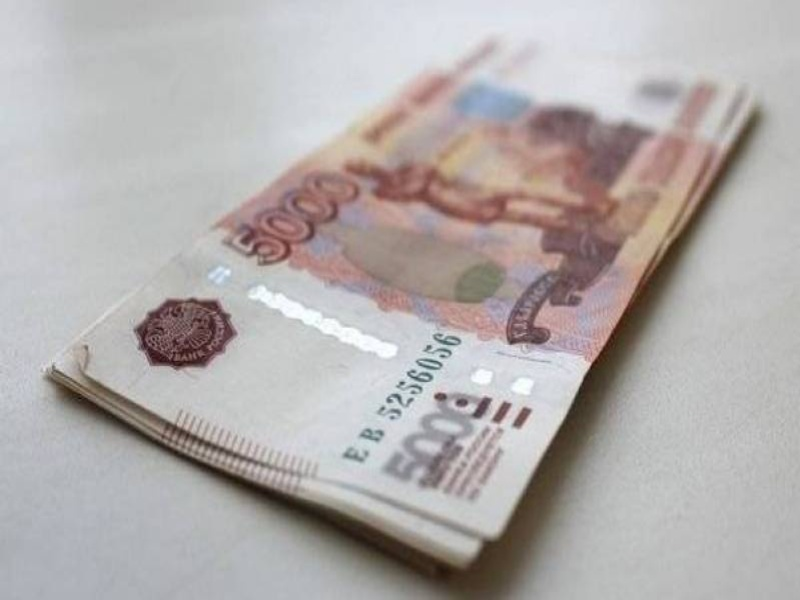cash: (44, 16, 755, 577)
